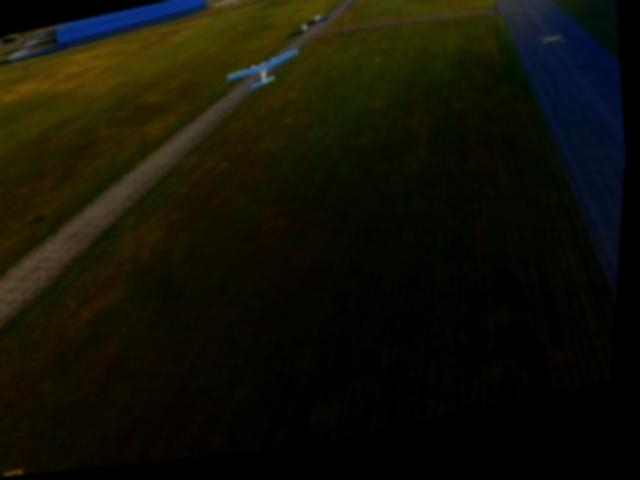uav: (222, 52, 305, 101)
